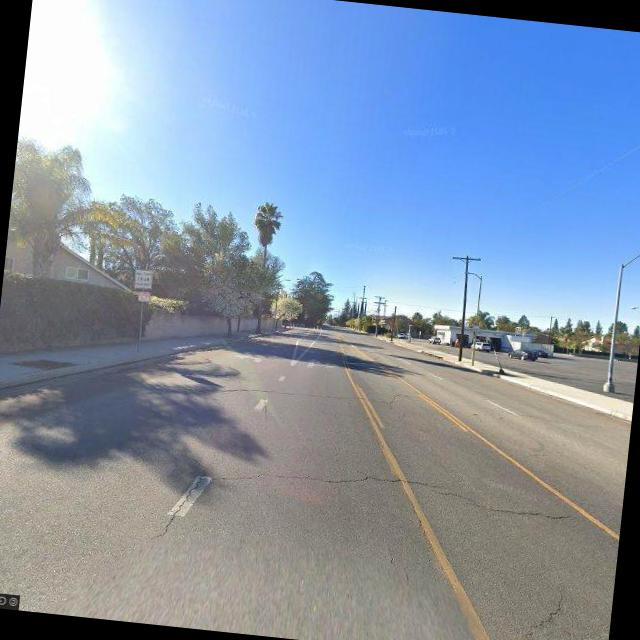crack: (211, 445, 594, 533), (199, 366, 427, 416), (156, 460, 213, 542)
